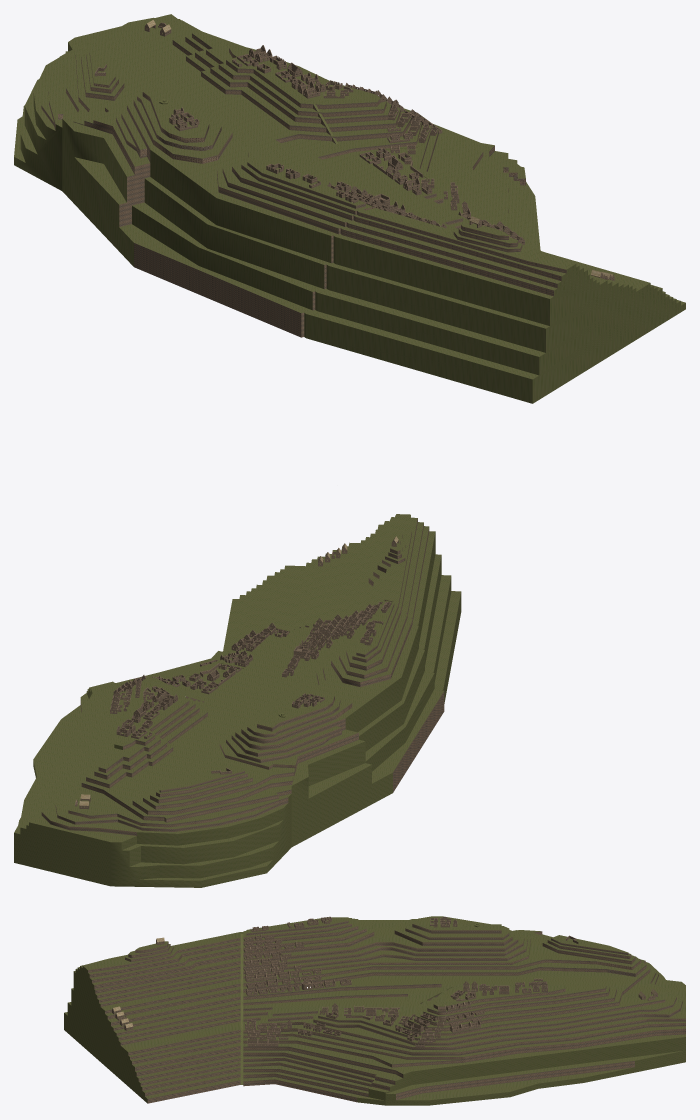
File: machupicchu.glb
The picture shows the model from 3 angles, top to bottom: view 1: azimuth 30°, elevation 25°; view 2: azimuth 150°, elevation 25°; view 3: azimuth 270°, elevation 25°; orthographic projection. The views are drawn at different scales.
Parts seen in each view (by area): view 1: GDLM1_Vegetation_HoneyLocus, GDLM2_Groundcover_RiverRock, GDLM6_Sketchy_Stone_Ashlar_, GDLM8_Groundcover_Sand_Smoo; view 2: GDLM1_Vegetation_HoneyLocus, GDLM2_Groundcover_RiverRock, GDLM6_Sketchy_Stone_Ashlar_, GDLM8_Groundcover_Sand_Smoo; view 3: GDLM1_Vegetation_HoneyLocus, GDLM2_Groundcover_RiverRock, GDLM6_Sketchy_Stone_Ashlar_, GDLM8_Groundcover_Sand_Smoo, GDLM4_Cladding_Siding_White.
Boxes of the visible parts, x1,y1,x2,y2 form: GDLM1_Vegetation_HoneyLocus: [14, 14, 685, 403]; GDLM2_Groundcover_RiverRock: [41, 33, 566, 337]; GDLM6_Sketchy_Stone_Ashlar_: [94, 24, 614, 337]; GDLM8_Groundcover_Sand_Smoo: [156, 70, 427, 185]; GDLM1_Vegetation_HoneyLocus: [14, 514, 461, 887]; GDLM2_Groundcover_RiverRock: [41, 518, 429, 835]; GDLM6_Sketchy_Stone_Ashlar_: [79, 540, 444, 809]; GDLM8_Groundcover_Sand_Smoo: [136, 663, 321, 720]; GDLM1_Vegetation_HoneyLocus: [64, 916, 685, 1105]; GDLM2_Groundcover_RiverRock: [88, 921, 685, 1103]; GDLM6_Sketchy_Stone_Ashlar_: [112, 916, 657, 1046]; GDLM8_Groundcover_Sand_Smoo: [341, 919, 511, 1027]; GDLM4_Cladding_Siding_White: [240, 934, 243, 1031].
Size of the model in its own units: 29153 by 8345 by 53137.
10 materials, 9 textured.
